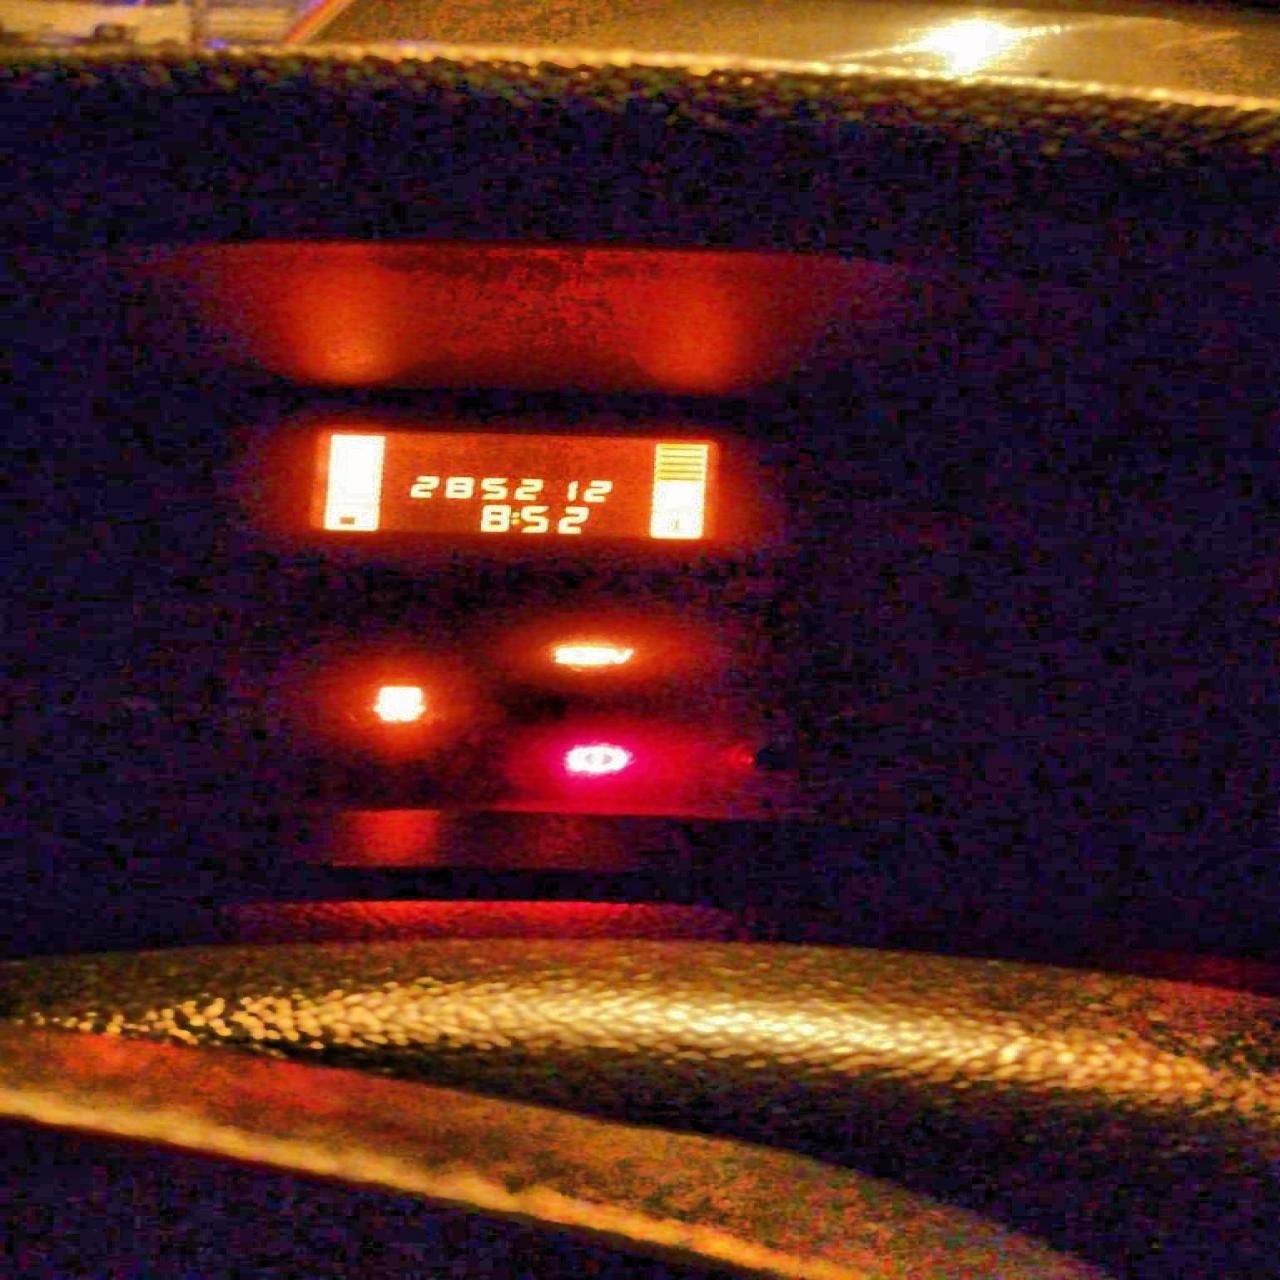1: (564, 479, 578, 502)
2: (557, 505, 587, 533), (580, 479, 612, 503), (407, 475, 440, 497), (511, 478, 543, 501)
5: (519, 504, 550, 533), (477, 476, 508, 499)
8: (478, 504, 509, 532), (441, 476, 475, 499)
X: (508, 511, 519, 525)
odometer: (305, 424, 724, 543)
